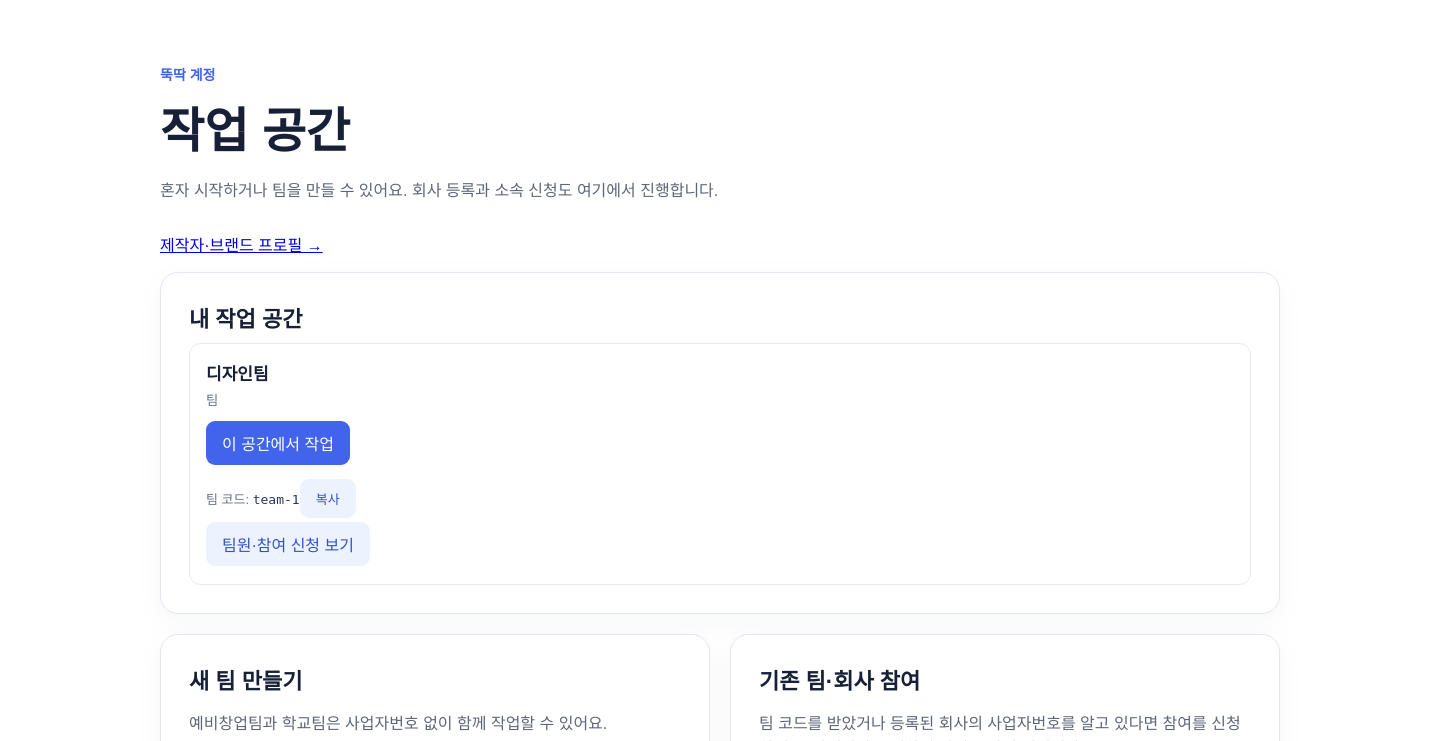
an owner cannot delete their own row even when the stored role is inconsistent
Step 1. Click the button "팀원·참여 신청 보기" → (288, 544), box [206, 522, 370, 566]
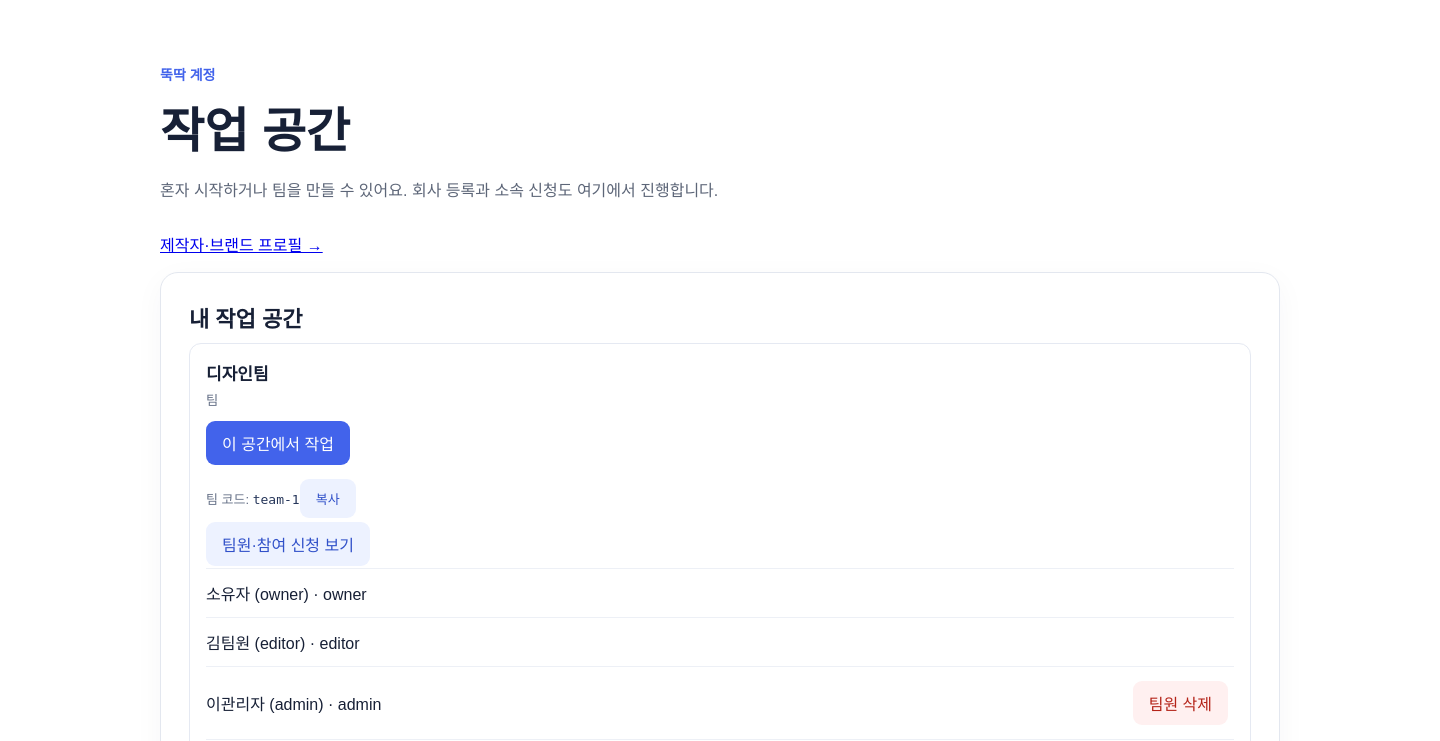
Expected: the text "김팀원 (editor) · editor" is shown, [206, 630, 360, 654]
